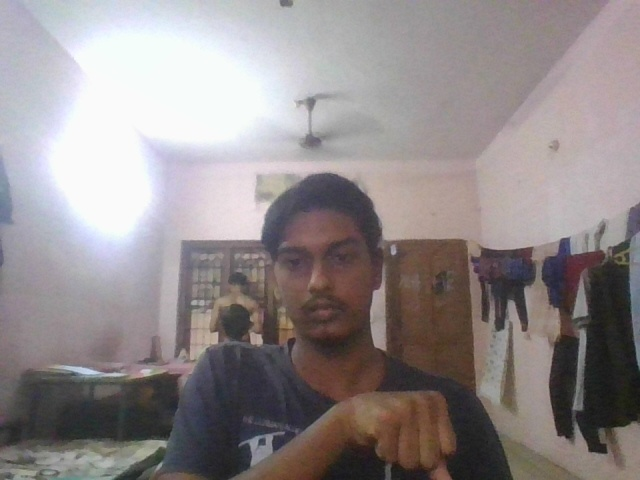yes: (338, 385, 461, 480)
